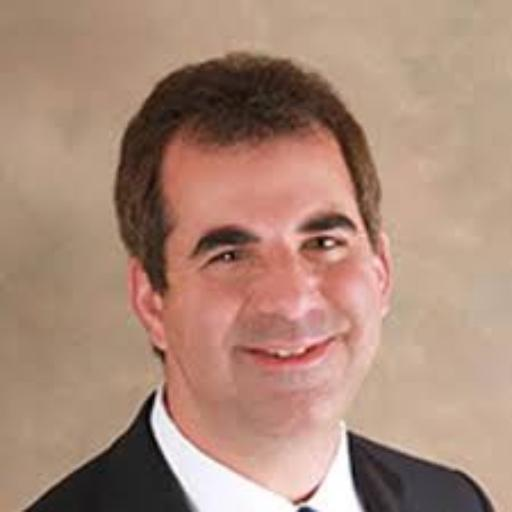left_eye: (300, 234, 350, 256)
left_lip_corner: (325, 331, 349, 350)
right_eye: (206, 245, 262, 270)
right_lip_corner: (228, 340, 257, 364)
